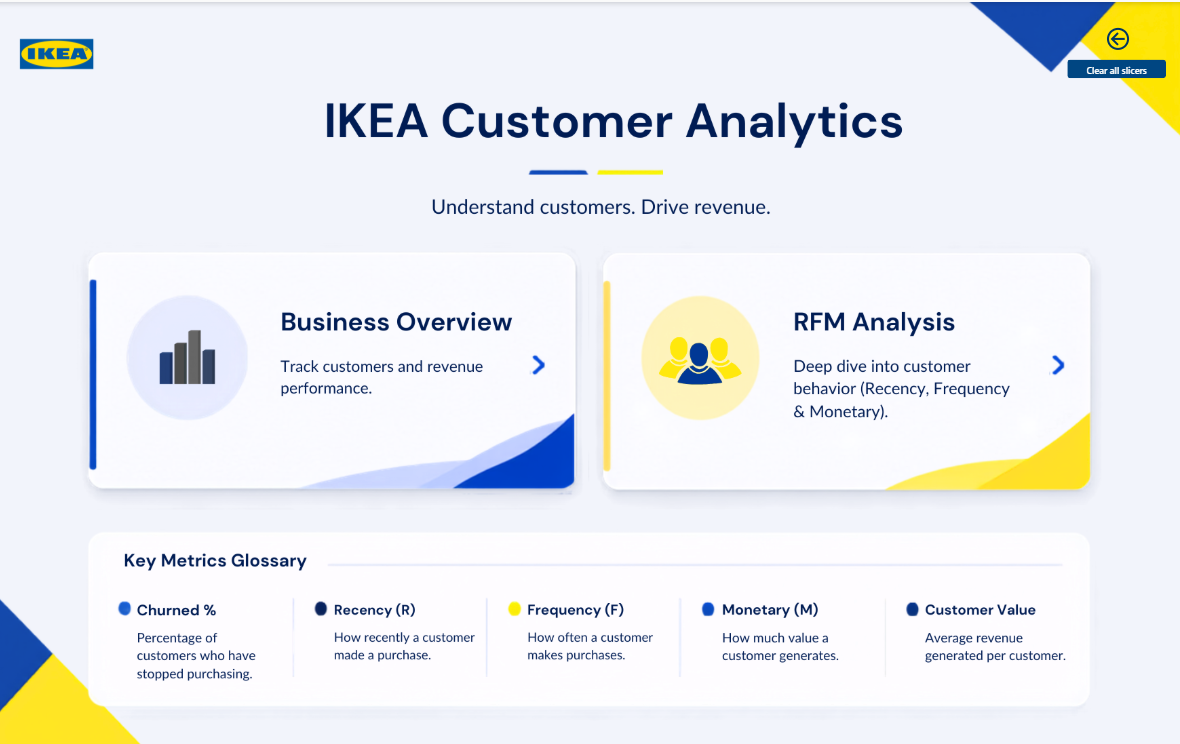

The page's visual inventory and layout, read from the dashboard file:
{"tool":"powerbi","page":{"name":"Home","canvas":[1750,1100],"ordinal":0},"visuals":[{"type":"image","box":[11.1,29.5,156.7,94],"z":13000},{"type":"actionButton","box":[1620.1,31.3,68.2,46.1],"z":15000},{"type":"actionButton","box":[1579.6,84.8,145.6,27.6],"z":16000}]}

Visuals, with their boxes in screenshot pixels (x1, y1, x2, y2), scaled from the page's 1750x1100 canvas onto the 1180x744 screenshot:
image: (7,20,113,84)
actionButton: (1092,21,1138,52)
actionButton: (1065,57,1163,76)
